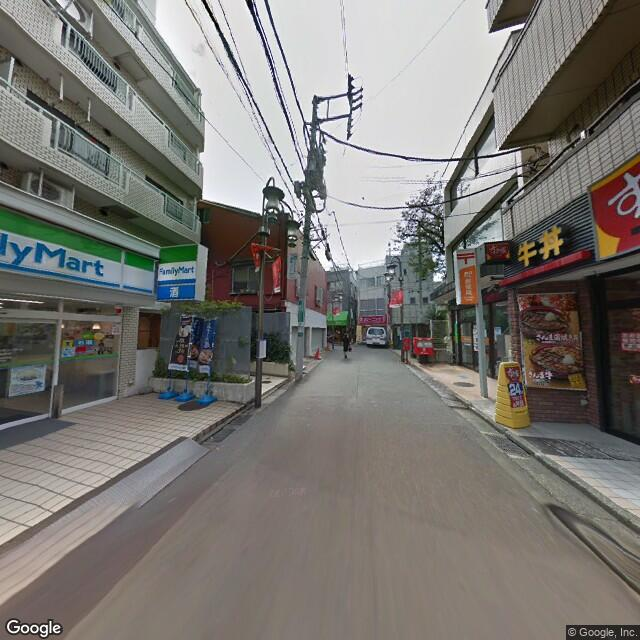family_mart: (1, 208, 156, 297), (156, 238, 200, 302)
